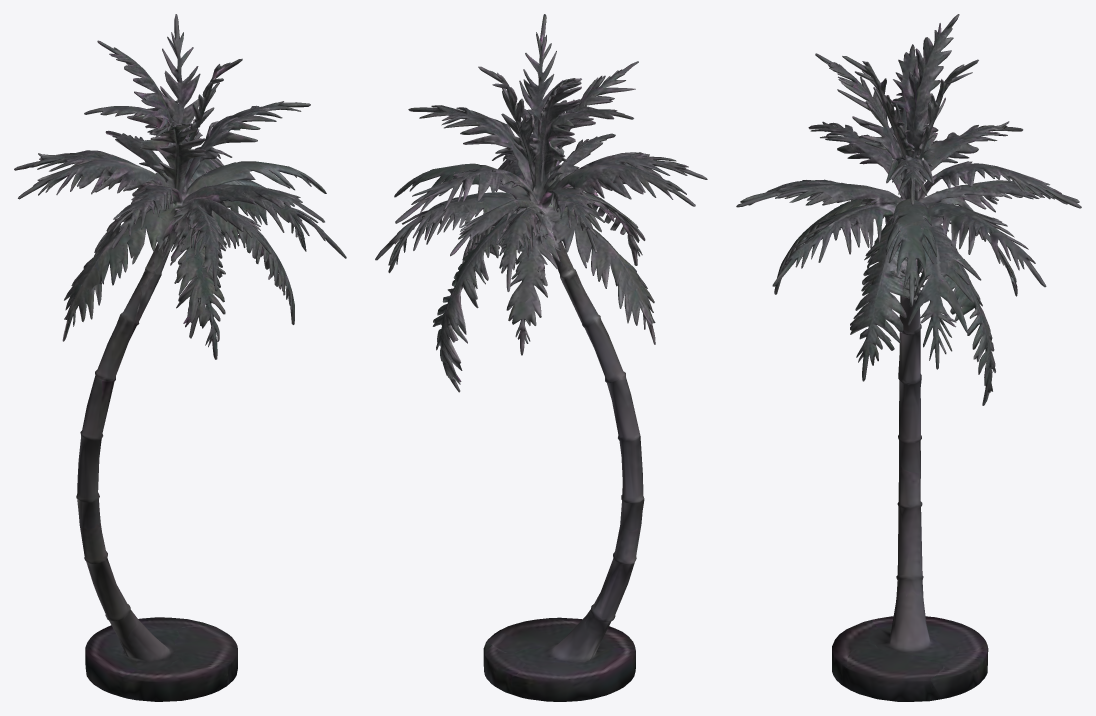
The model's file is nsNeonPalm.dafb5a98.glb.
3 views of the same model, side by side, from view 1: azimuth 30°, elevation 25°; view 2: azimuth 150°, elevation 25°; view 3: azimuth 270°, elevation 25° (orthographic). The views are drawn at different scales.
Size of the model in its own units: 0.9778 by 1.9 by 0.9344.
Materials: 1 (1 with a texture image).
